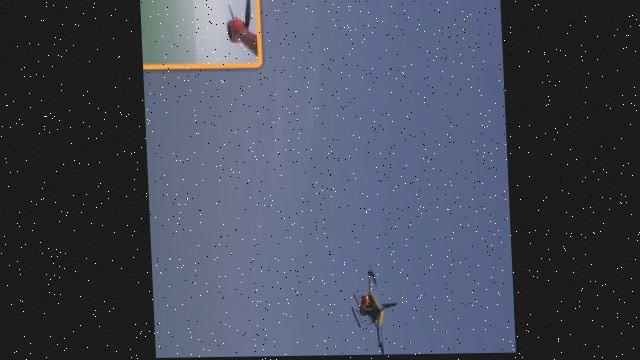drone: (346, 270, 397, 356)
